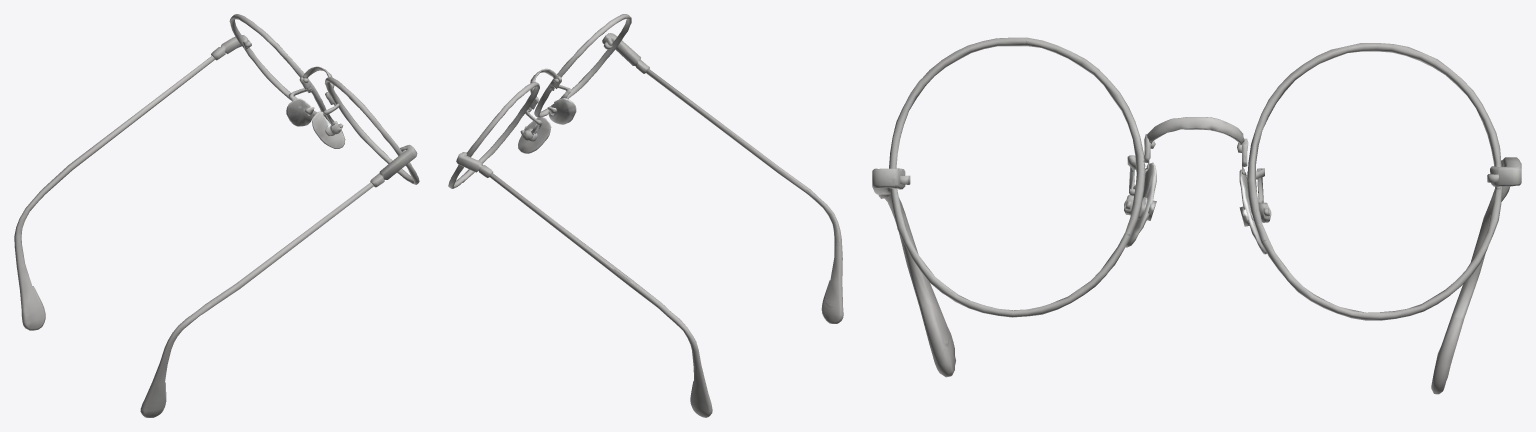
The picture shows the model from 3 angles, left to right: view 1: azimuth 30°, elevation 25°; view 2: azimuth 150°, elevation 25°; view 3: azimuth 270°, elevation 25°; orthographic projection. The views are drawn at different scales.
Visible parts, largest first — view 1: tripo_node_649fbac2-8a07-4b00-9f64-30ab5438dcdb; view 2: tripo_node_649fbac2-8a07-4b00-9f64-30ab5438dcdb; view 3: tripo_node_649fbac2-8a07-4b00-9f64-30ab5438dcdb.
Boxes of the visible parts, left/top/right/bottom form: tripo_node_649fbac2-8a07-4b00-9f64-30ab5438dcdb: left=14, top=14, right=419, bottom=417; tripo_node_649fbac2-8a07-4b00-9f64-30ab5438dcdb: left=448, top=14, right=843, bottom=417; tripo_node_649fbac2-8a07-4b00-9f64-30ab5438dcdb: left=872, top=37, right=1521, bottom=394.
Bounding box in the file's own units: 0.9902 × 0.9238 × 0.998.
Materials: 1 (1 with a texture image).
